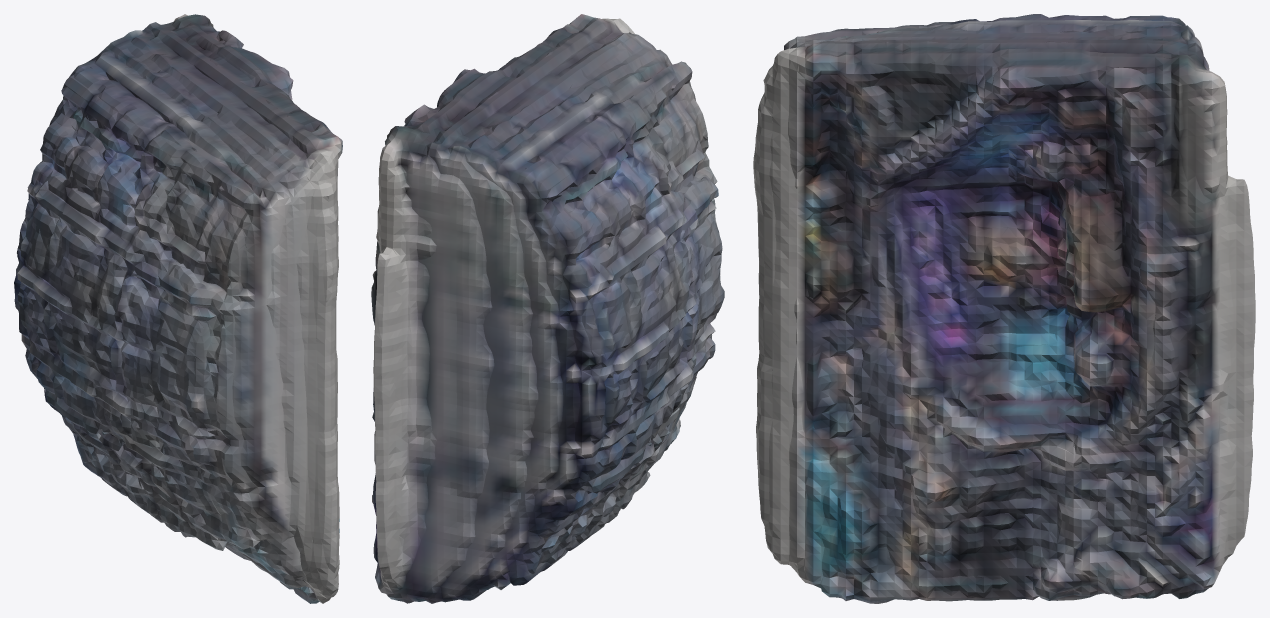
The model's file is building-review-office.glb.
3 views of the same model, side by side, from view 1: azimuth 30°, elevation 25°; view 2: azimuth 150°, elevation 25°; view 3: azimuth 270°, elevation 25° (orthographic). The views are drawn at different scales.
Parts seen in each view (by area): view 1: world; view 2: world; view 3: world.
Boxes of the visible parts, x1,y1,x2,y2 form: world: (14, 14, 342, 603); world: (371, 14, 724, 603); world: (753, 14, 1255, 603).
Bounding box in the file's own units: 0.5195 × 1.03 × 0.8464.
